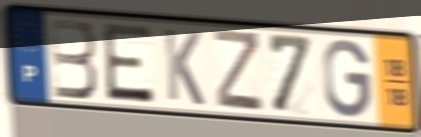7: (265, 31, 316, 117)
B: (47, 16, 100, 102)
E: (100, 21, 157, 107)
G: (321, 37, 373, 121)
K: (161, 26, 207, 109)
Z: (212, 27, 265, 115)
